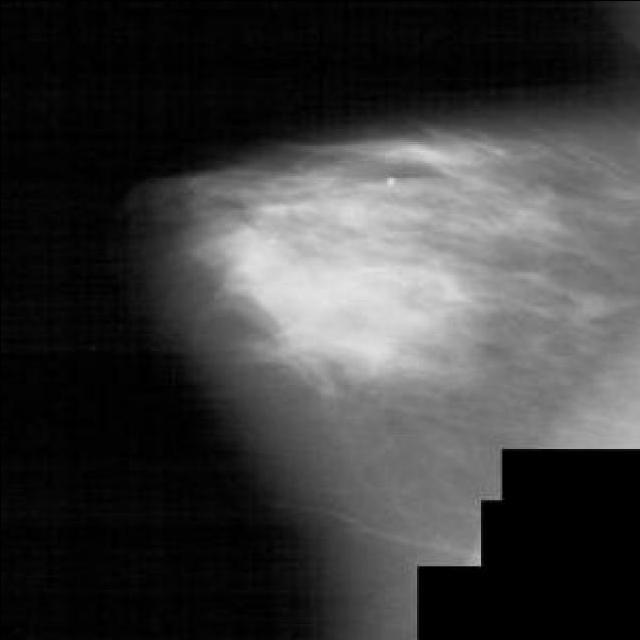tumor: (222, 164, 476, 403)
